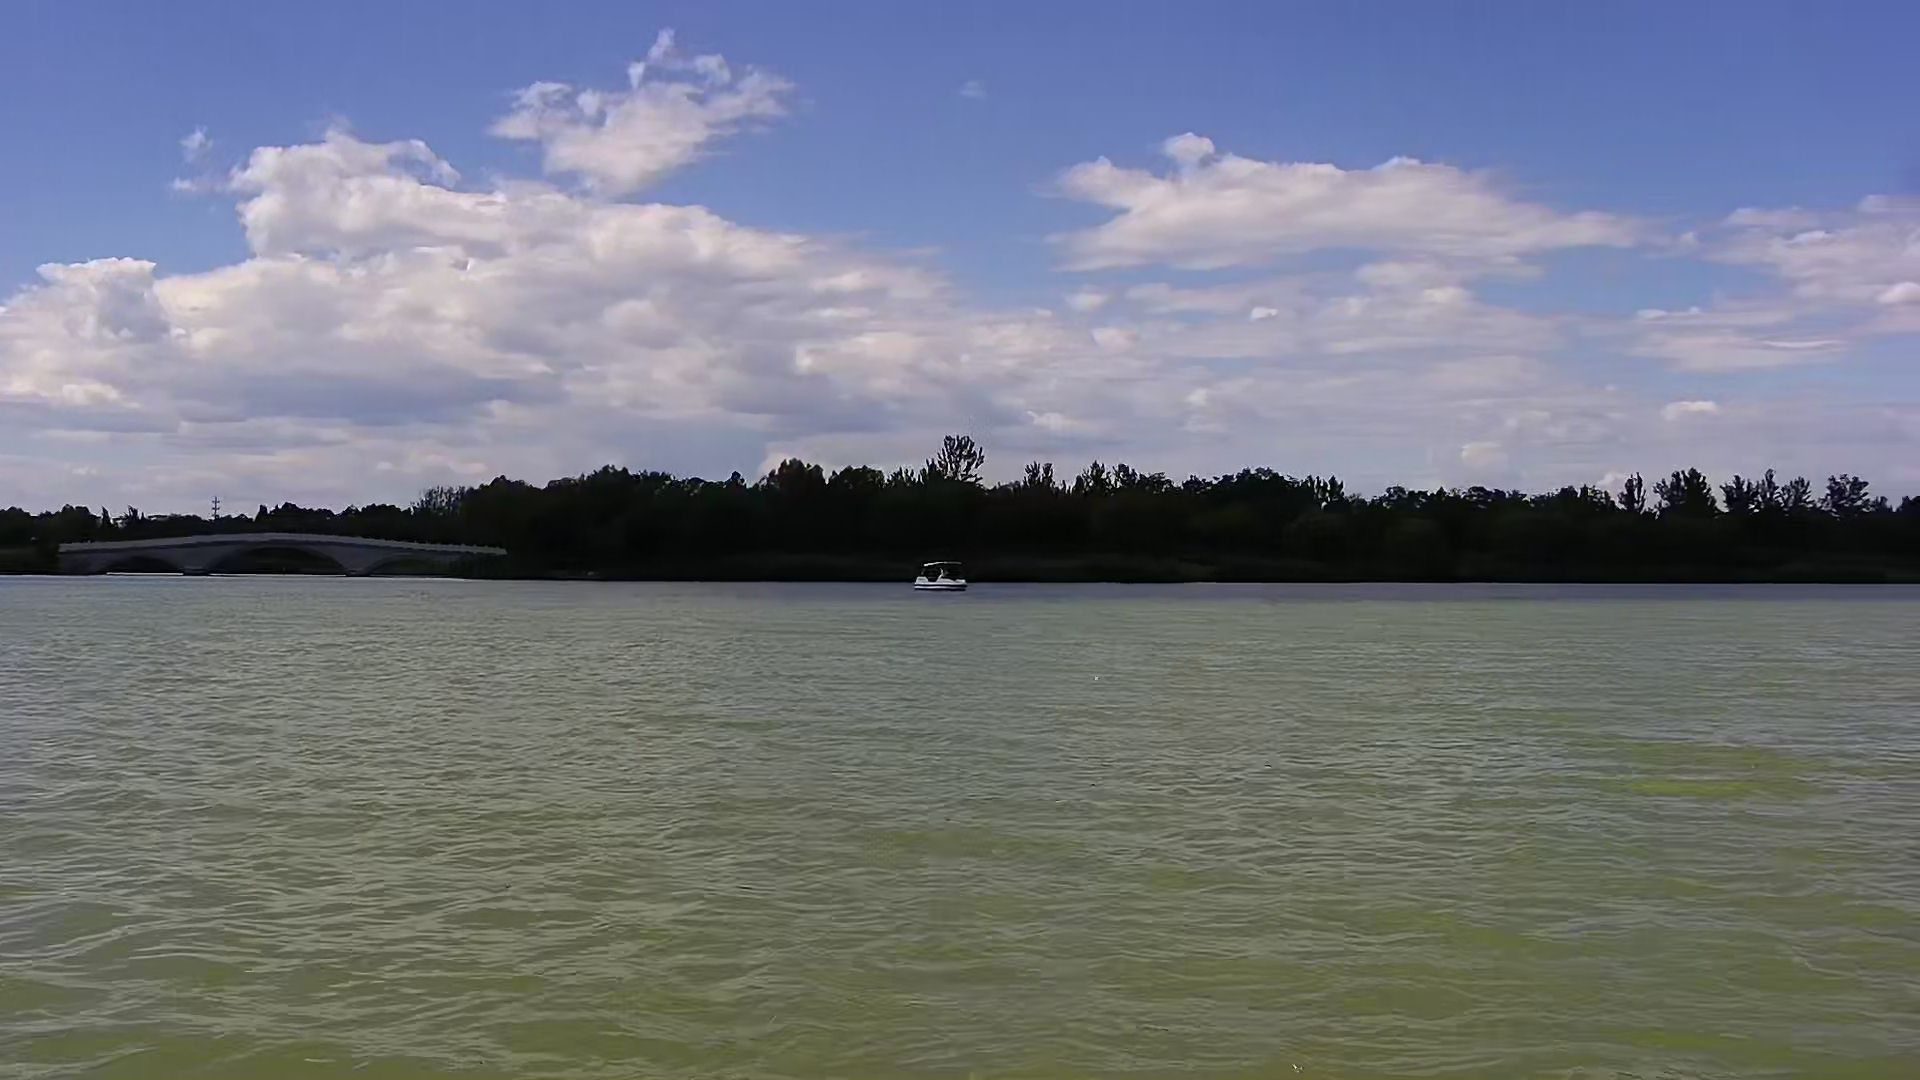boat: (914, 555, 975, 601)
bridge: (44, 531, 509, 582)
